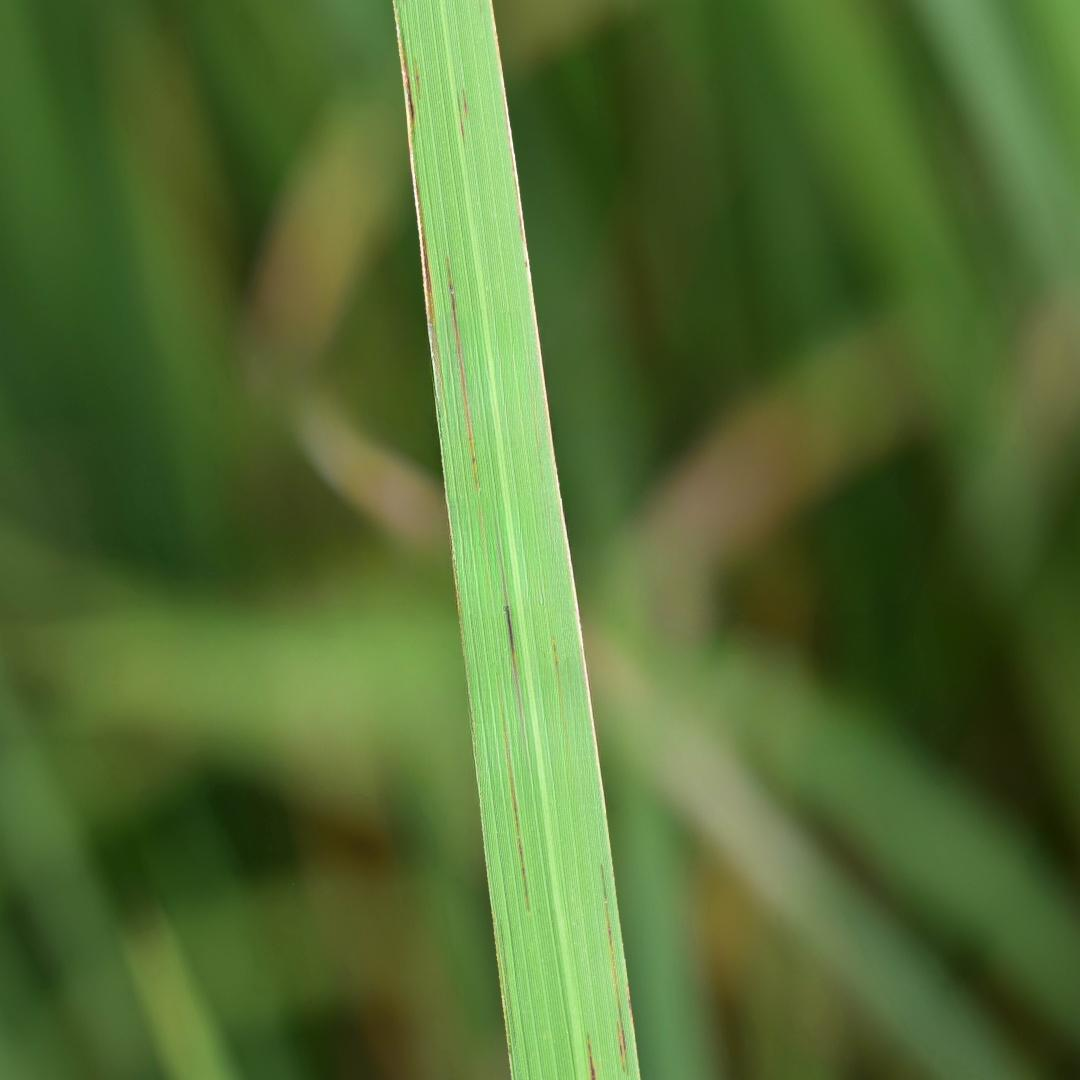BLS: (447, 259, 478, 490), (498, 545, 528, 753), (411, 152, 439, 373), (503, 711, 527, 910), (491, 911, 515, 1079), (398, 12, 414, 152), (601, 865, 615, 977), (616, 979, 627, 1068), (413, 59, 422, 103), (587, 1037, 596, 1079), (457, 91, 464, 145), (462, 87, 468, 118)
